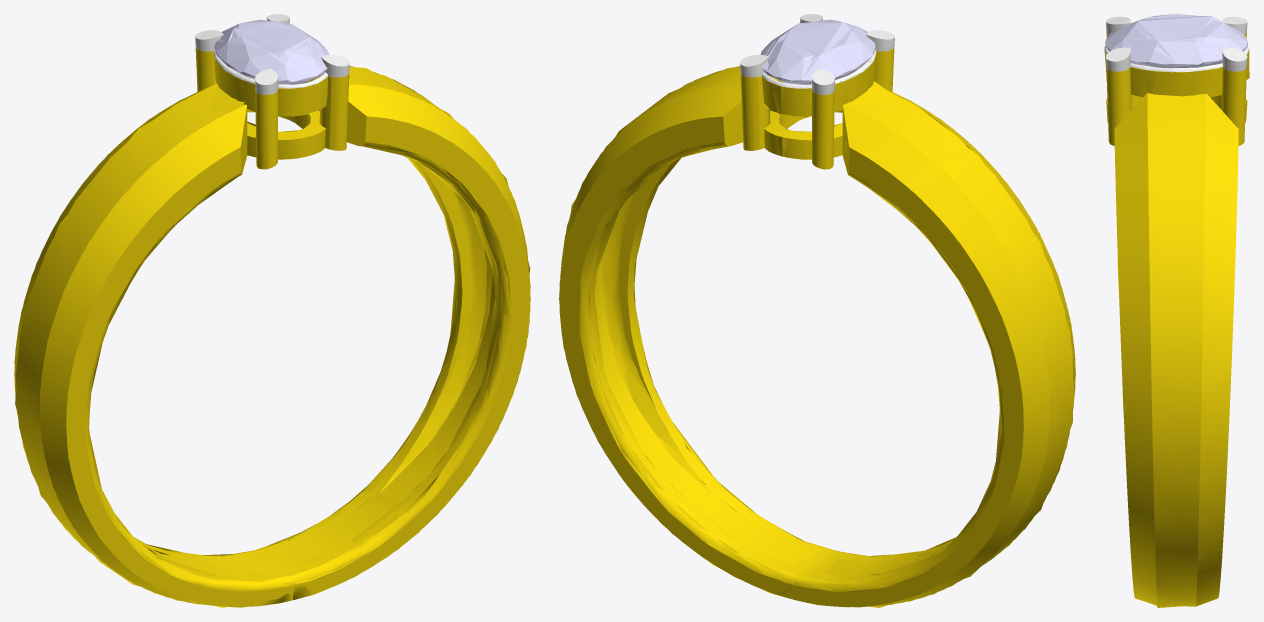
Rendered from DGR-D000700230.glb.
3 views of the same model, side by side, from view 1: azimuth 30°, elevation 25°; view 2: azimuth 150°, elevation 25°; view 3: azimuth 270°, elevation 25° (orthographic).
Visible parts, largest first — view 1: highPolyMesh, lowPolyMesh; view 2: highPolyMesh, lowPolyMesh; view 3: highPolyMesh, lowPolyMesh.
Part boxes in pixels (bbox=[...]): highPolyMesh: bbox=[14, 14, 530, 606]; lowPolyMesh: bbox=[14, 14, 530, 607]; highPolyMesh: bbox=[559, 14, 1075, 607]; lowPolyMesh: bbox=[559, 14, 1075, 607]; highPolyMesh: bbox=[1104, 14, 1248, 606]; lowPolyMesh: bbox=[1105, 16, 1249, 607].
Bounding box in the file's own units: 0.0234 × 0.0255 × 0.00602.
